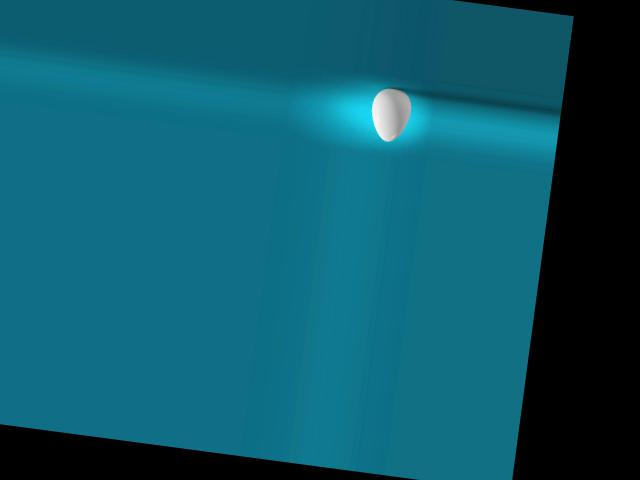egg: (368, 85, 414, 143)
